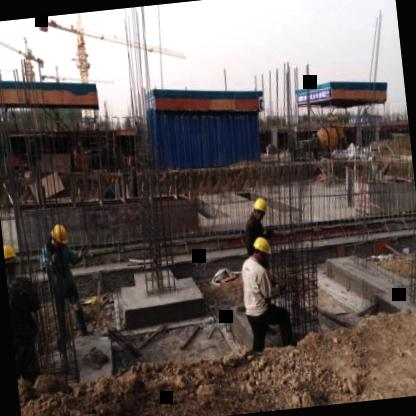helmet: (248, 233, 278, 267), (44, 221, 72, 252), (2, 239, 22, 279), (246, 193, 268, 222)
